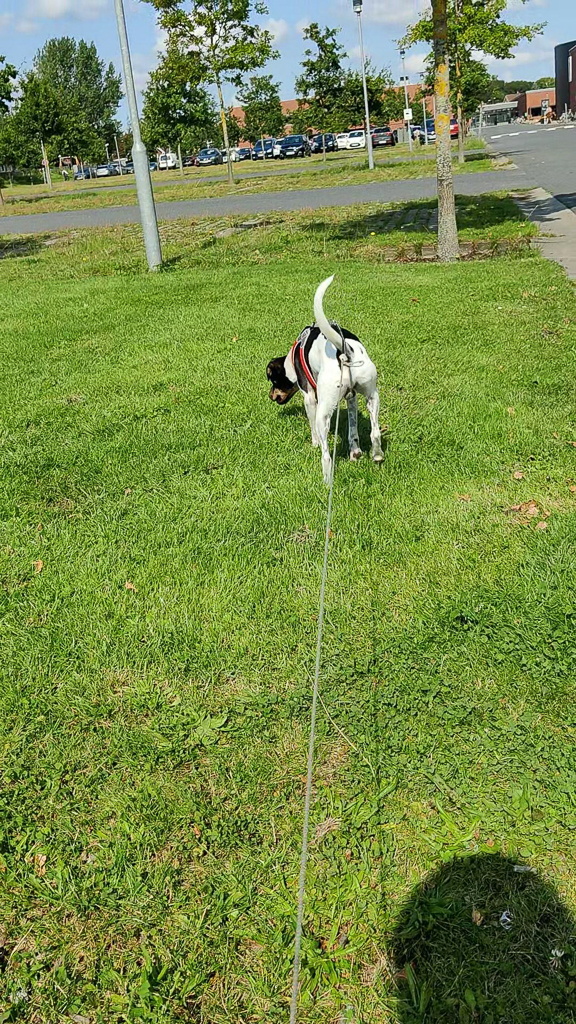Dog: (256, 268, 405, 504)
